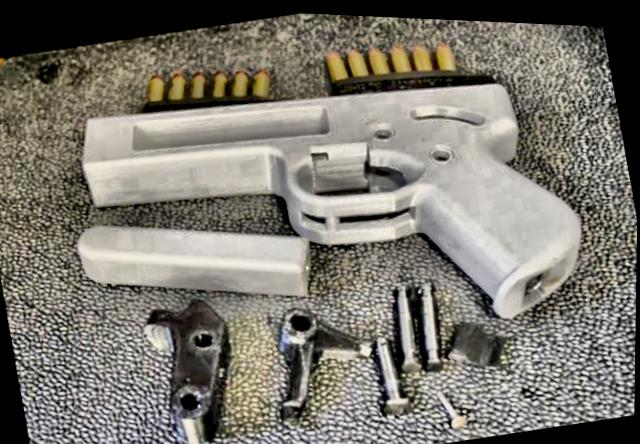pistol: (62, 15, 600, 396)
